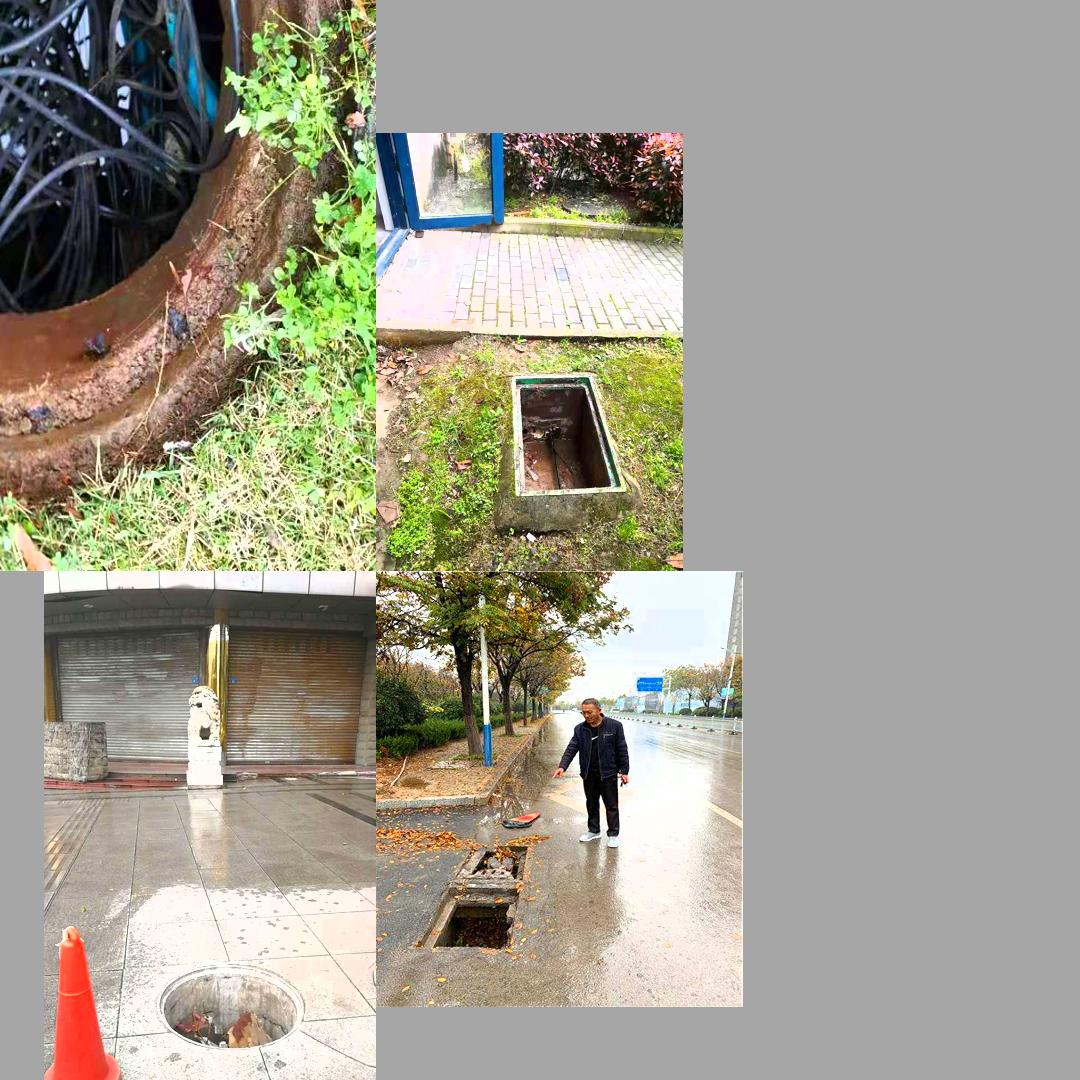lose: (0, 0, 346, 513), (152, 958, 314, 1058), (509, 372, 624, 498), (417, 836, 533, 954)
